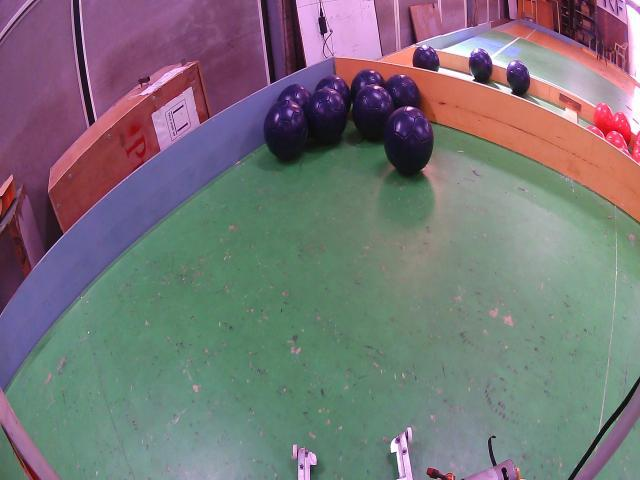kaalyya: (384, 107, 434, 174), (264, 100, 308, 160), (306, 88, 348, 145), (352, 85, 395, 140), (316, 75, 351, 111), (385, 73, 420, 108), (350, 68, 385, 101), (278, 83, 311, 110), (506, 60, 530, 95), (469, 48, 492, 82), (412, 45, 440, 72)
